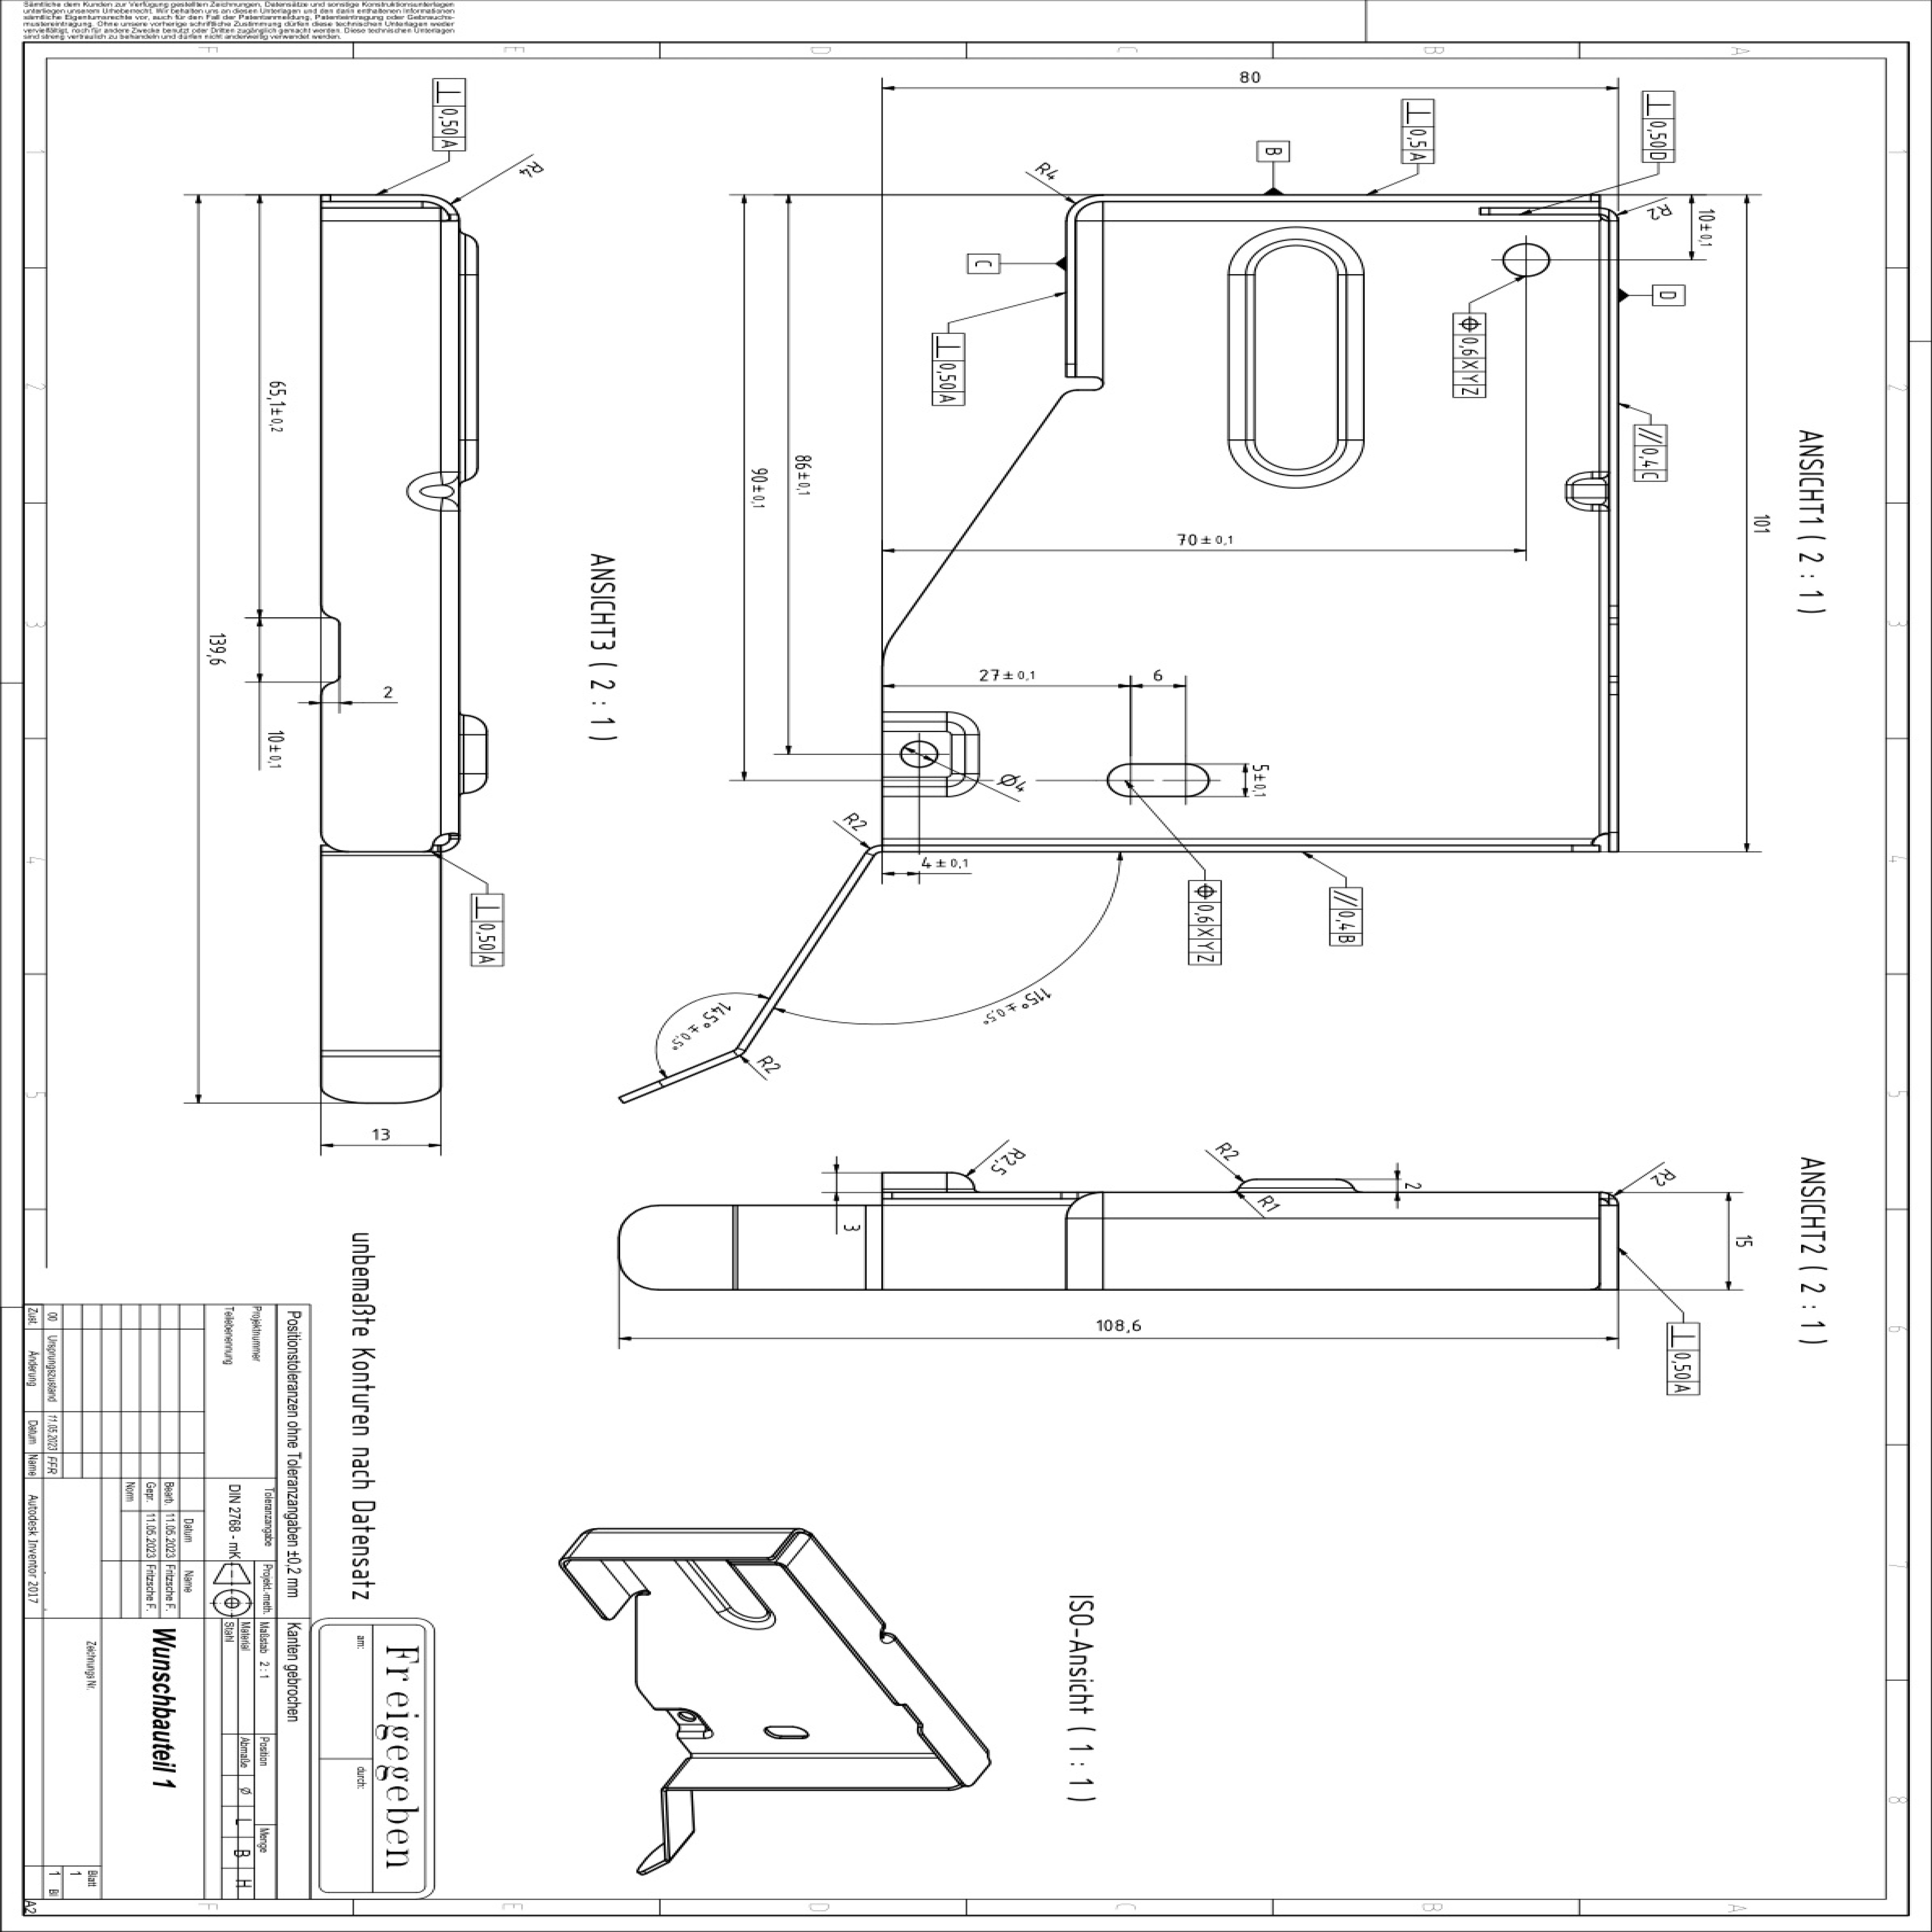BendingEdge: (441, 514, 458, 840), (442, 220, 459, 478), (862, 1205, 884, 1289), (313, 1048, 446, 1060), (316, 848, 445, 858), (730, 1205, 740, 1290), (727, 1042, 749, 1064), (862, 840, 882, 862)
BendingEdgeCurve: (428, 192, 461, 226), (1604, 1188, 1618, 1202)
Embossment: (1224, 225, 1373, 495), (882, 709, 984, 800)
EmbossmentExternal: (457, 232, 480, 481), (459, 712, 489, 802), (1235, 1174, 1359, 1193), (882, 1170, 976, 1192)
InnerContour: (1105, 759, 1214, 799), (1501, 241, 1553, 279), (898, 738, 940, 770)
Notch: (310, 610, 348, 692)
Reinforcement: (402, 469, 459, 512), (1563, 469, 1610, 511)
